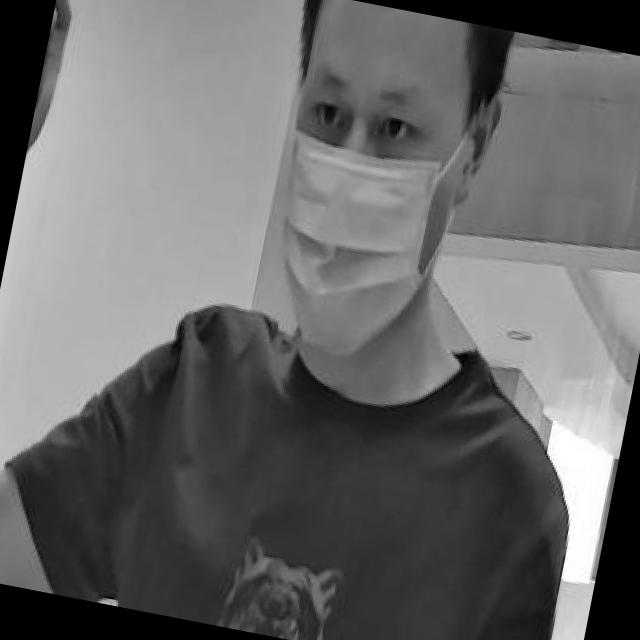Guns: (19, 0, 114, 199)
